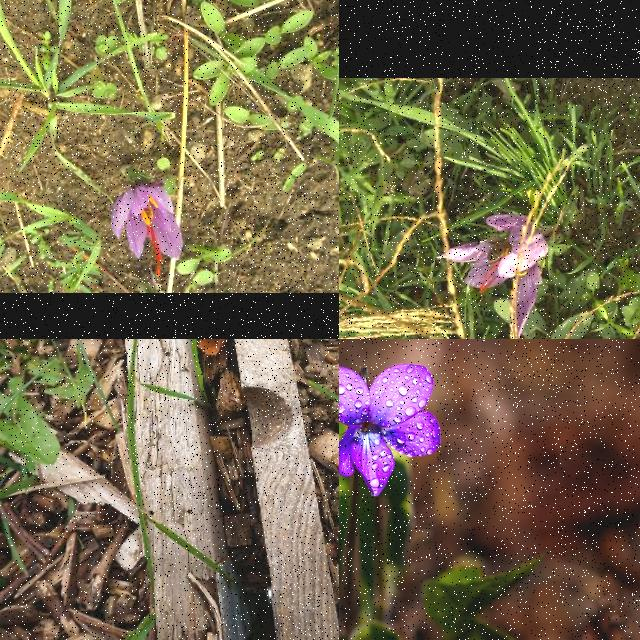flower: (436, 214, 548, 338), (110, 183, 183, 277)
